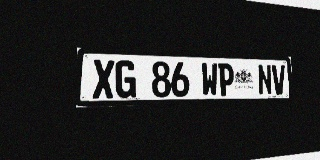6: (171, 62, 189, 97)
8: (152, 61, 171, 97)
G: (115, 60, 136, 98)
N: (257, 64, 272, 95)
P: (218, 63, 234, 96)
V: (272, 65, 286, 95)
W: (201, 63, 218, 96)
X: (92, 59, 114, 99)
